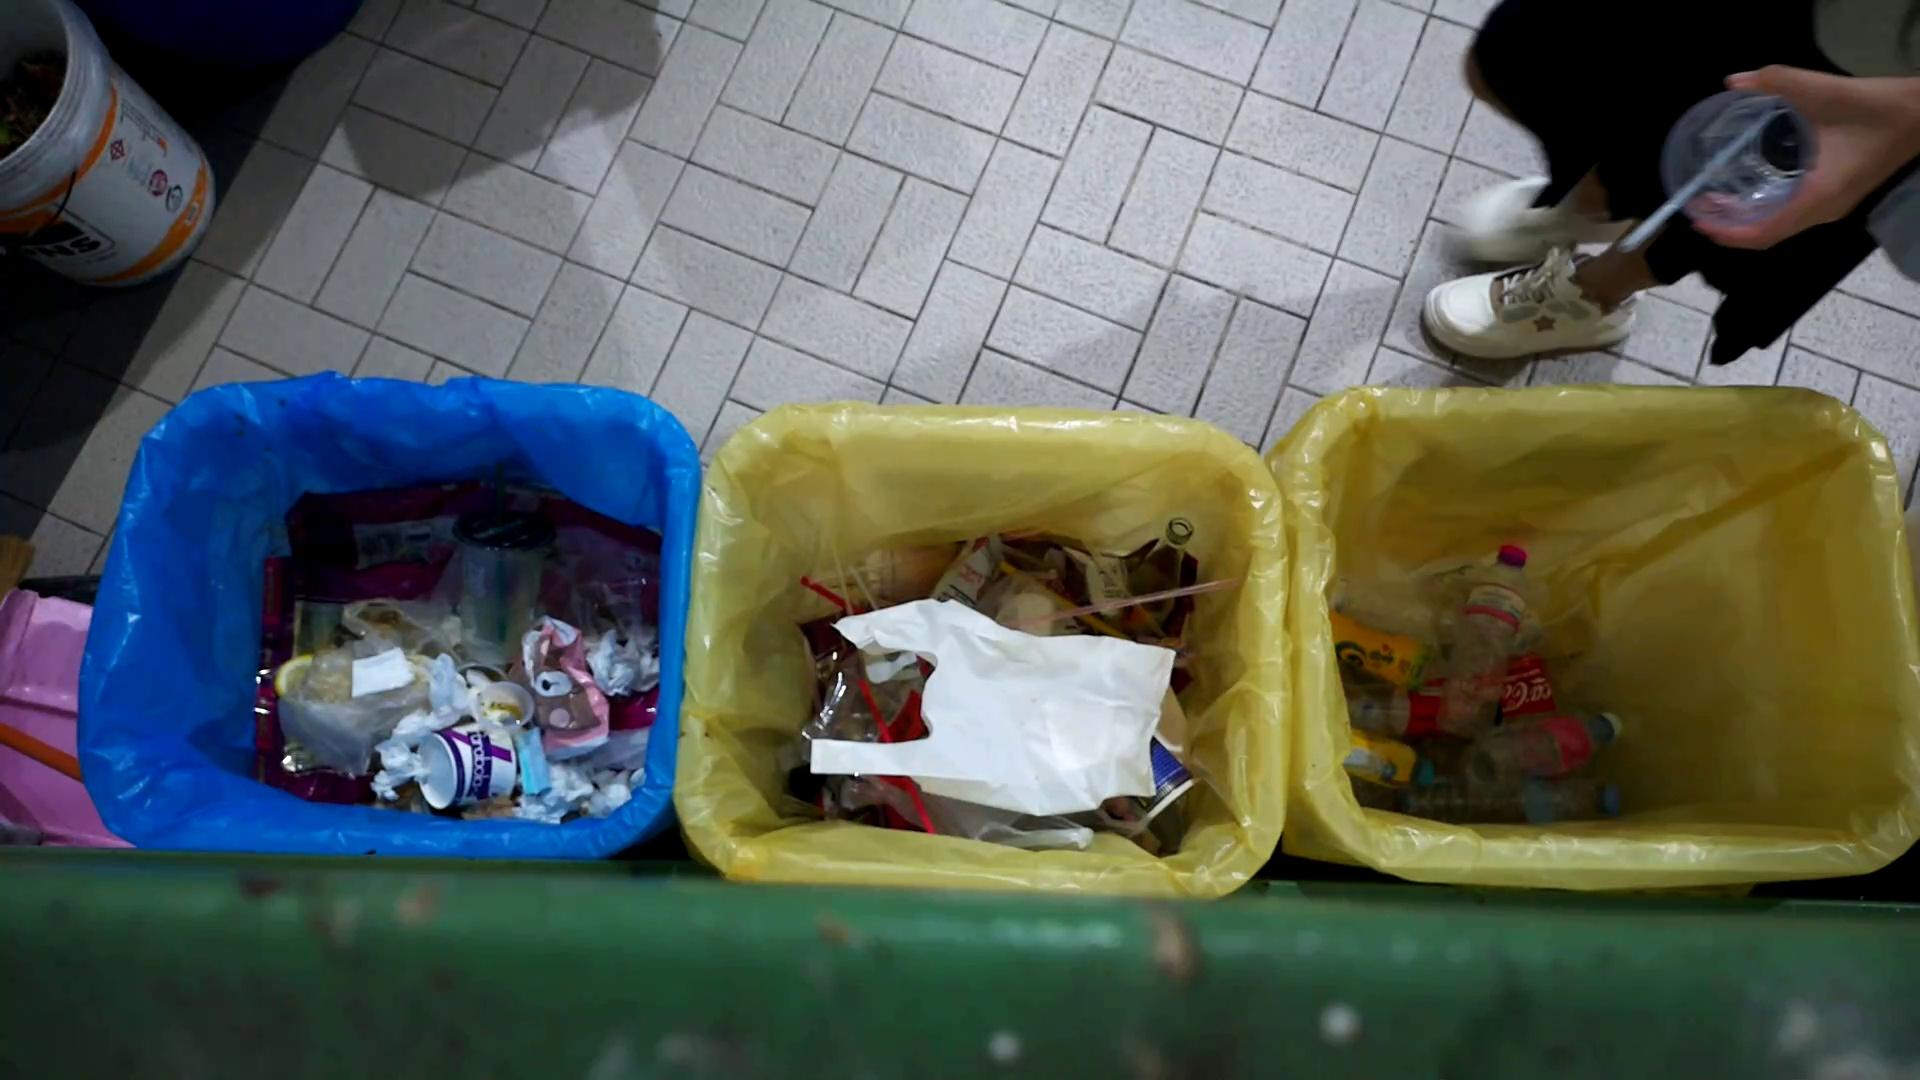filled plastic bag: (268, 582, 473, 770)
food container: (411, 709, 520, 815), (477, 686, 539, 748)
plastic bag: (800, 595, 1159, 816)
plastic bottle: (1431, 538, 1532, 735), (1452, 711, 1626, 804), (1320, 568, 1465, 647), (1445, 766, 1639, 822), (1328, 599, 1423, 702), (1338, 725, 1433, 793)
plastic cup: (447, 502, 556, 665), (1522, 576, 1629, 707)
snack packaging: (508, 612, 616, 766)
straw: (1615, 113, 1776, 258), (992, 578, 1232, 632), (1071, 520, 1168, 642), (812, 541, 968, 580), (988, 534, 1088, 582), (491, 458, 514, 646), (823, 514, 855, 613), (847, 560, 884, 613), (802, 575, 851, 609)
tissue paper: (344, 644, 418, 702), (377, 707, 434, 782), (588, 625, 638, 699), (425, 650, 469, 732), (529, 754, 592, 811), (510, 721, 553, 795), (582, 765, 640, 818), (459, 670, 497, 733), (368, 765, 417, 800), (638, 628, 662, 698), (514, 794, 568, 824)
